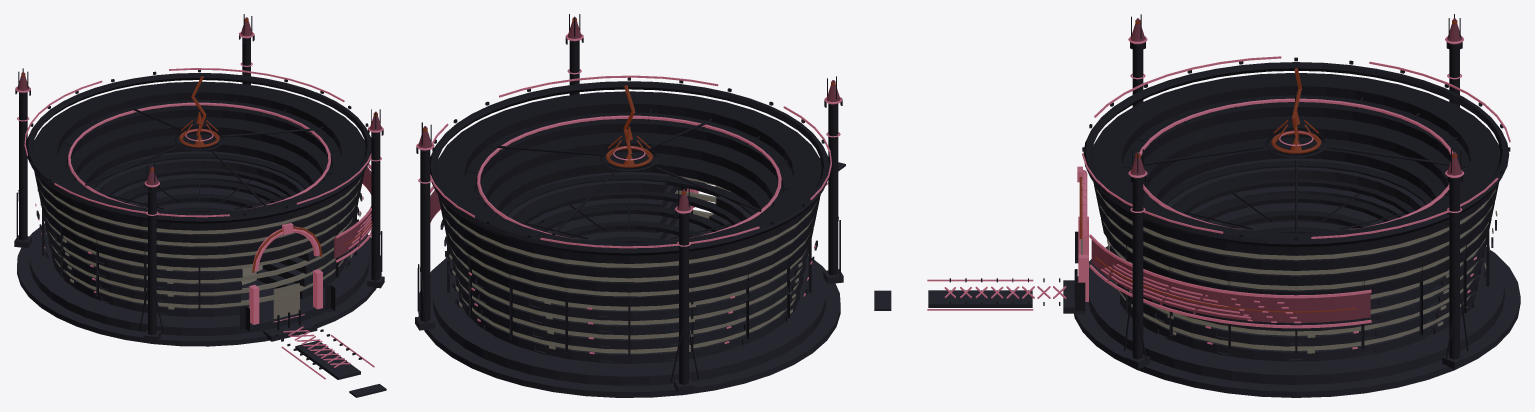
File: leaderboard-ext-draft-s26.glb
3 views of the same model, side by side, from view 1: azimuth 30°, elevation 25°; view 2: azimuth 150°, elevation 25°; view 3: azimuth 270°, elevation 25° (orthographic). The views are drawn at different scales.
Parts seen in each view (by area): view 1: arena_outer_tier_band_07, arena_lower_service_podium, arena_outer_tier_band_06, arena_outer_tier_band_05, arena_outer_tier_band_04, structural_top_rim_ring_open_roof, arena_ground_plinth_outer_disc, arena_outer_tier_band_03_with_entrance_gap, arena_outer_tier_band_02_with_entrance_gap, arena_outer_tier_band_01_with_entrance_gap, arena_outer_tier_band_00_with_entrance_gap, inner_bowl_guard_rim (+27 smaller); view 2: arena_outer_tier_band_07, arena_lower_service_podium, arena_outer_tier_band_05, arena_outer_tier_band_06, arena_outer_tier_band_04, structural_top_rim_ring_open_roof, arena_ground_plinth_outer_disc, arena_outer_tier_band_03_with_entrance_gap, arena_outer_tier_band_02_with_entrance_gap, arena_outer_tier_band_01_with_entrance_gap, arena_outer_tier_band_00_with_entrance_gap, visible_stepped_seating_ring_06 (+20 smaller); view 3: arena_outer_tier_band_07, arena_lower_service_podium, arena_outer_tier_band_06, arena_outer_tier_band_05, arena_outer_tier_band_04, structural_top_rim_ring_open_roof, arena_ground_plinth_outer_disc, curved_leaderboard_display_main_panel, arena_outer_tier_band_03_with_entrance_gap, arena_outer_tier_band_01_with_entrance_gap, arena_outer_tier_band_00_with_entrance_gap, arena_outer_tier_band_02_with_entrance_gap (+21 smaller).
Boxes of the visible parts, x1=… form: arena_outer_tier_band_07: x1=33, y1=81, x2=365, y2=230; arena_lower_service_podium: x1=29, y1=226, x2=369, y2=335; arena_outer_tier_band_06: x1=34, y1=99, x2=364, y2=242; arena_outer_tier_band_05: x1=37, y1=117, x2=361, y2=255; arena_outer_tier_band_04: x1=40, y1=134, x2=358, y2=267; structural_top_rim_ring_open_roof: x1=26, y1=73, x2=371, y2=223; arena_ground_plinth_outer_disc: x1=17, y1=223, x2=381, y2=346; arena_outer_tier_band_03_with_entrance_gap: x1=44, y1=151, x2=354, y2=279; arena_outer_tier_band_02_with_entrance_gap: x1=46, y1=174, x2=333, y2=292; arena_outer_tier_band_01_with_entrance_gap: x1=48, y1=187, x2=347, y2=304; arena_outer_tier_band_00_with_entrance_gap: x1=51, y1=202, x2=347, y2=316; inner_bowl_guard_rim: x1=68, y1=102, x2=330, y2=209; arena_outer_tier_band_07: x1=436, y1=91, x2=821, y2=263; arena_lower_service_podium: x1=433, y1=218, x2=825, y2=385; arena_outer_tier_band_05: x1=441, y1=132, x2=816, y2=292; arena_outer_tier_band_06: x1=438, y1=112, x2=819, y2=278; arena_outer_tier_band_04: x1=445, y1=152, x2=813, y2=306; structural_top_rim_ring_open_roof: x1=430, y1=81, x2=829, y2=255; arena_ground_plinth_outer_disc: x1=418, y1=255, x2=840, y2=397; arena_outer_tier_band_03_with_entrance_gap: x1=450, y1=172, x2=808, y2=320; arena_outer_tier_band_02_with_entrance_gap: x1=452, y1=185, x2=806, y2=335; arena_outer_tier_band_01_with_entrance_gap: x1=455, y1=201, x2=803, y2=349; arena_outer_tier_band_00_with_entrance_gap: x1=458, y1=217, x2=799, y2=363; visible_stepped_seating_ring_06: x1=499, y1=174, x2=759, y2=218; arena_outer_tier_band_07: x1=1092, y1=73, x2=1500, y2=255; arena_lower_service_podium: x1=1088, y1=249, x2=1504, y2=384; arena_outer_tier_band_06: x1=1094, y1=95, x2=1498, y2=270; arena_outer_tier_band_05: x1=1097, y1=116, x2=1494, y2=285; arena_outer_tier_band_04: x1=1101, y1=137, x2=1491, y2=295; structural_top_rim_ring_open_roof: x1=1083, y1=62, x2=1509, y2=246; arena_ground_plinth_outer_disc: x1=1074, y1=246, x2=1520, y2=397; curved_leaderboard_display_main_panel: x1=1091, y1=240, x2=1370, y2=322; arena_outer_tier_band_03_with_entrance_gap: x1=1110, y1=158, x2=1486, y2=309; arena_outer_tier_band_01_with_entrance_gap: x1=1116, y1=202, x2=1481, y2=346; arena_outer_tier_band_00_with_entrance_gap: x1=1120, y1=221, x2=1477, y2=361; arena_outer_tier_band_02_with_entrance_gap: x1=1143, y1=186, x2=1484, y2=331.
Bounding box in the file's own units: 18.4 × 10.68 × 26.5.
